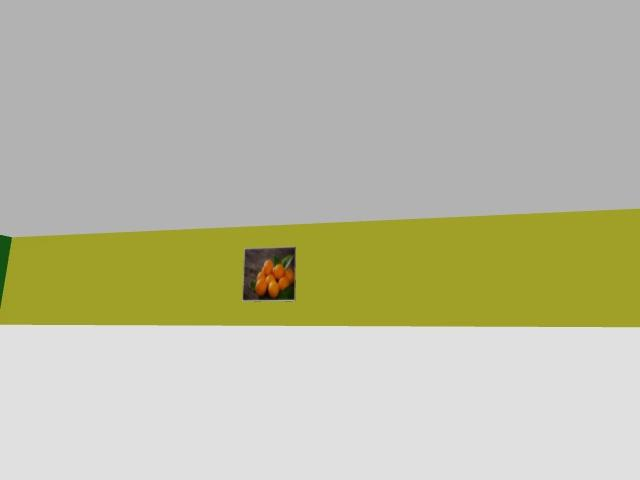orange: (255, 278, 267, 296), (268, 280, 279, 298), (272, 264, 284, 279), (278, 276, 289, 290), (262, 259, 272, 274), (285, 268, 293, 283), (265, 274, 275, 286), (256, 271, 265, 280)
